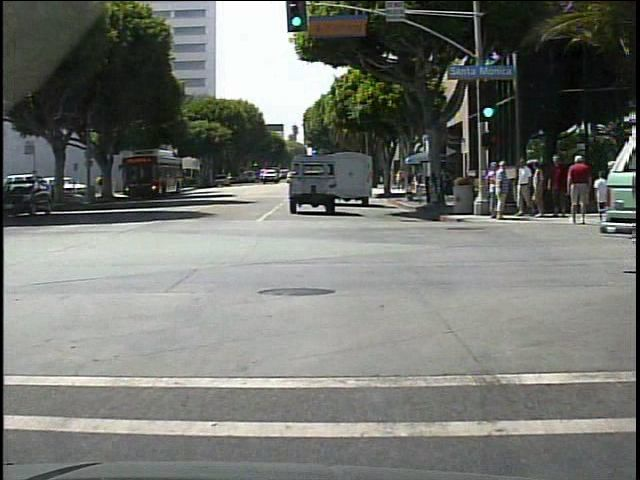person: (544, 151, 571, 220), (567, 155, 591, 230), (607, 162, 627, 226), (517, 158, 538, 218), (593, 165, 613, 224), (530, 162, 547, 221), (495, 160, 509, 222), (488, 162, 500, 220), (101, 176, 112, 201), (95, 175, 105, 198), (396, 170, 404, 193)
